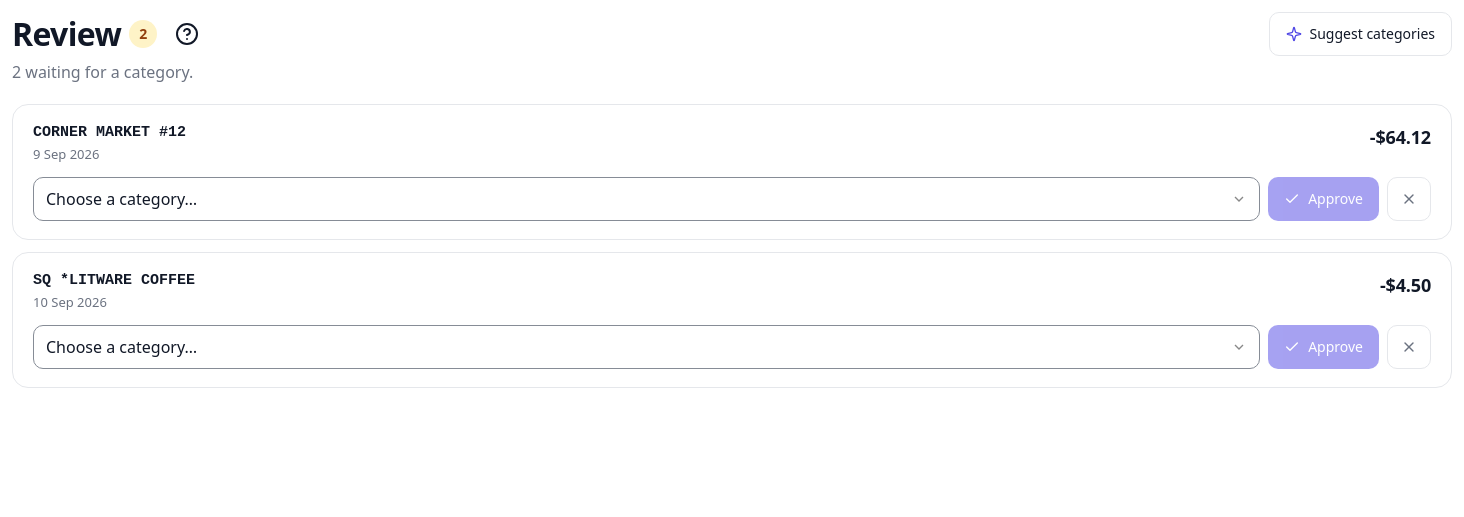
Scenario: Review asks the AI for categories › asks on the tap, too
Click the button "Suggest categories" at (1360, 34), box left=1268, top=12, right=1452, bottom=56
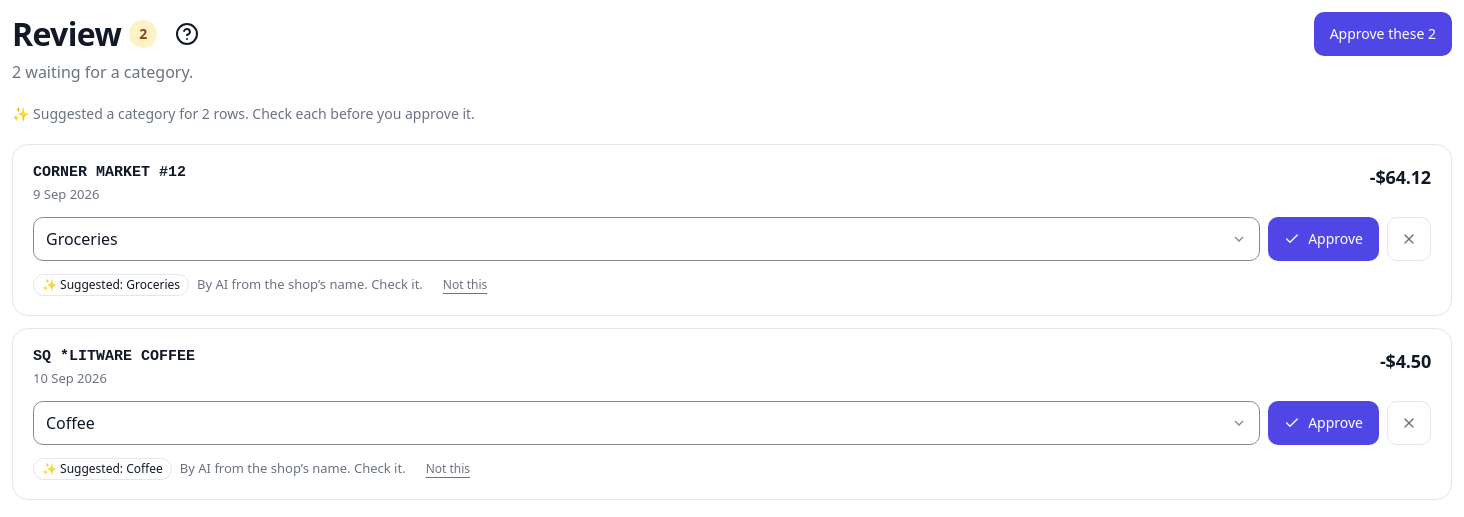
Expected: the text "Suggested a category for 2 rows" is shown, left=12, top=104, right=475, bottom=123
